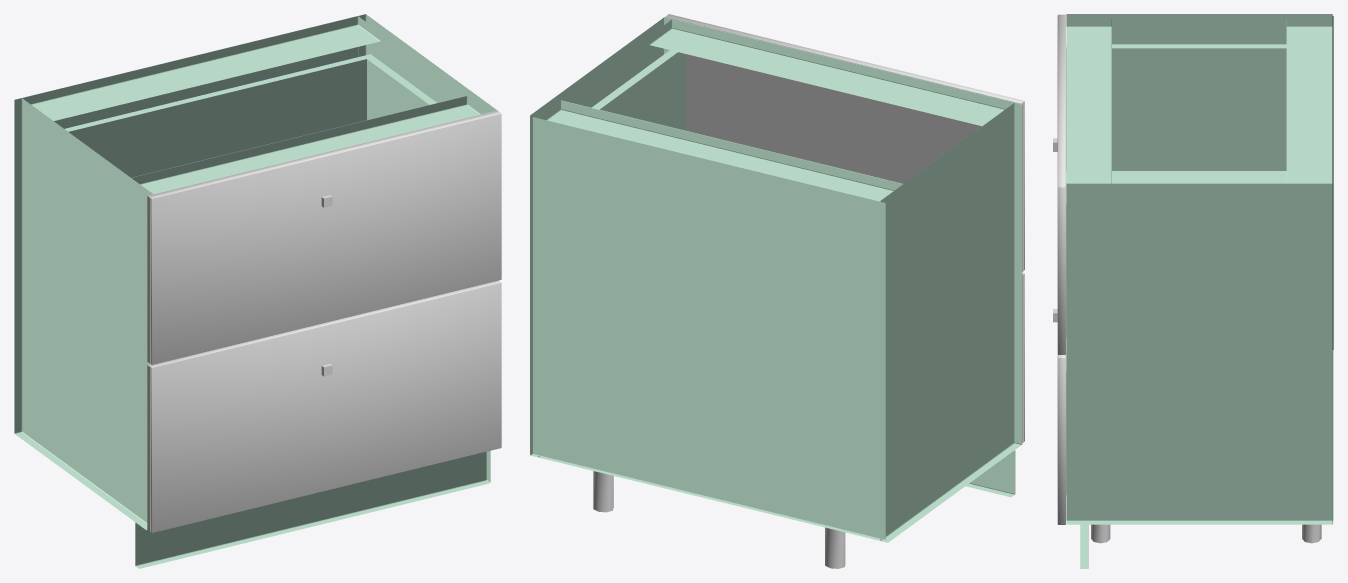
Rendered from M_2YNSD_11.glb.
The picture shows the model from 3 angles, left to right: view 1: azimuth 30°, elevation 25°; view 2: azimuth 150°, elevation 25°; view 3: azimuth 270°, elevation 25°; orthographic projection.
Parts seen in each view (by area): view 1: M_2YNSD_11, M_2YNSD_1_F.018, M_2YNSD_1_F.019, M_2YNSD_11_F_11, M_2YNSD_1_F_C.018, M_2YNSD_1_F_C.019; view 2: M_2YNSD_11, M_2YNSD_1_F_A.018, M_2YNSD_1_F_B.018, M_2YNSD_11_F_11, M_2YNSD_1_F.018, Legs.011, M_2YNSD_1_F_C.018; view 3: M_2YNSD_11, M_2YNSD_11_F_11, M_2YNSD_1_F.018, M_2YNSD_1_F.019, Legs.011.
Part boxes in pixels (box(x1,y1,x2,y2)): M_2YNSD_11: box(14, 14, 497, 568); M_2YNSD_1_F.018: box(148, 110, 501, 364); M_2YNSD_1_F.019: box(149, 280, 501, 532); M_2YNSD_11_F_11: box(65, 54, 436, 177); M_2YNSD_1_F_C.018: box(147, 196, 150, 363); M_2YNSD_1_F_C.019: box(147, 365, 150, 531); M_2YNSD_11: box(530, 17, 1022, 542); M_2YNSD_1_F_A.018: box(665, 17, 1023, 169); M_2YNSD_1_F_B.018: box(843, 61, 1023, 271); M_2YNSD_11_F_11: box(591, 50, 686, 130); M_2YNSD_1_F.018: box(665, 14, 1024, 269); Legs.011: box(593, 471, 845, 568); M_2YNSD_1_F_C.018: box(686, 55, 1024, 271); M_2YNSD_11: box(1066, 14, 1333, 568); M_2YNSD_11_F_11: box(1066, 44, 1286, 494); M_2YNSD_1_F.018: box(1057, 14, 1065, 354); M_2YNSD_1_F.019: box(1057, 355, 1065, 524); Legs.011: box(1091, 524, 1321, 543).
Size of the model in its own units: 8.37 by 8.6 by 5.73.
